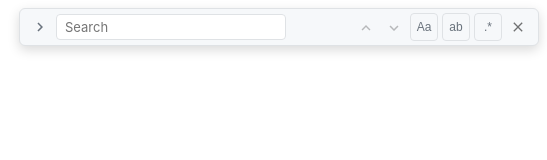
SearchReplacePanel › T-SR-02: case-sensitive search distinguishes case
Type "Hello" into the field with placeholder "Search".
click(171, 27); type("Hello")  # box 56,14 -> 286,40
Wait 200 ms
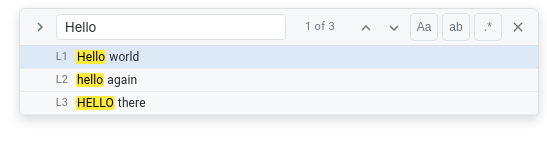
Expected: the text "1 of 3" is shown, 305,20 -> 335,33
Click the button "Aa".
click(424, 27)  # box 410,13 -> 438,41
Wait 200 ms
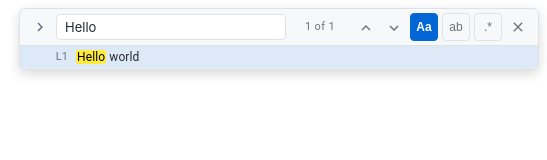
Expected: the text "1 of 1" is shown, 305,20 -> 335,33
